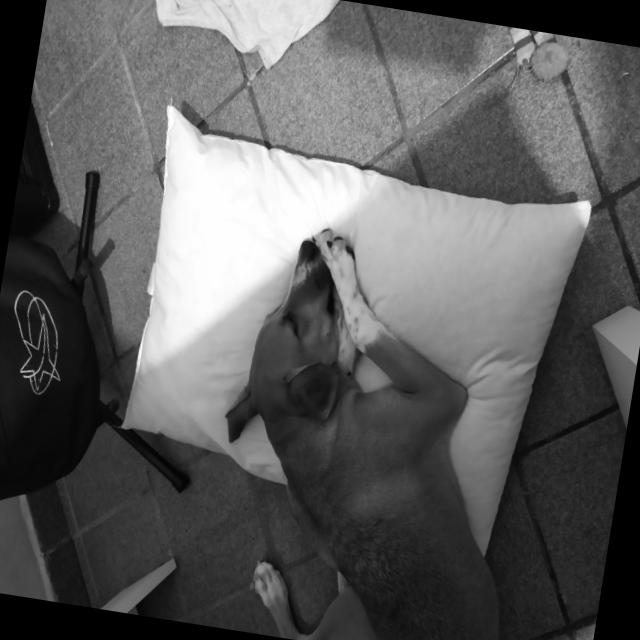laying down: (190, 214, 565, 640)
